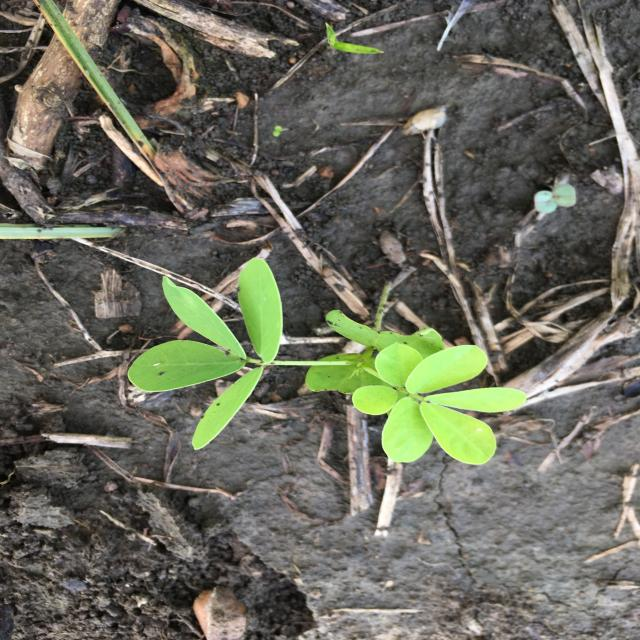Sicklepod: (125, 255, 532, 469)
